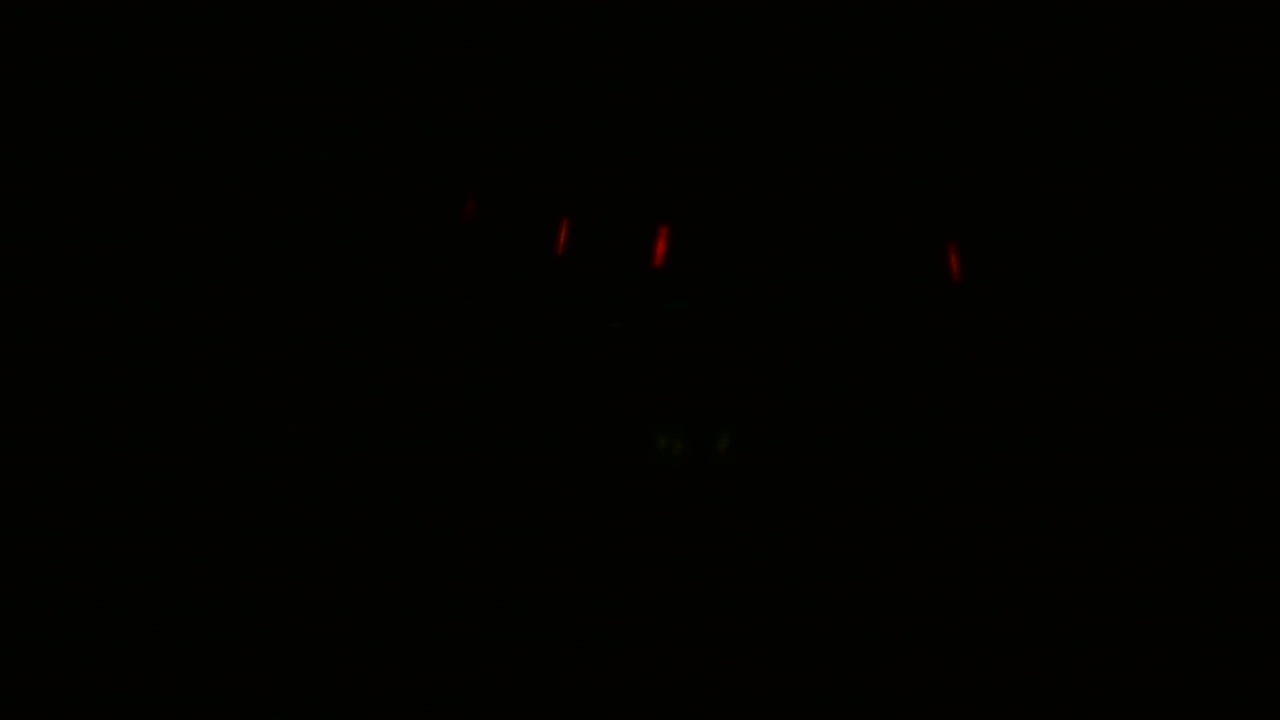pair1: (551, 211, 670, 272)
